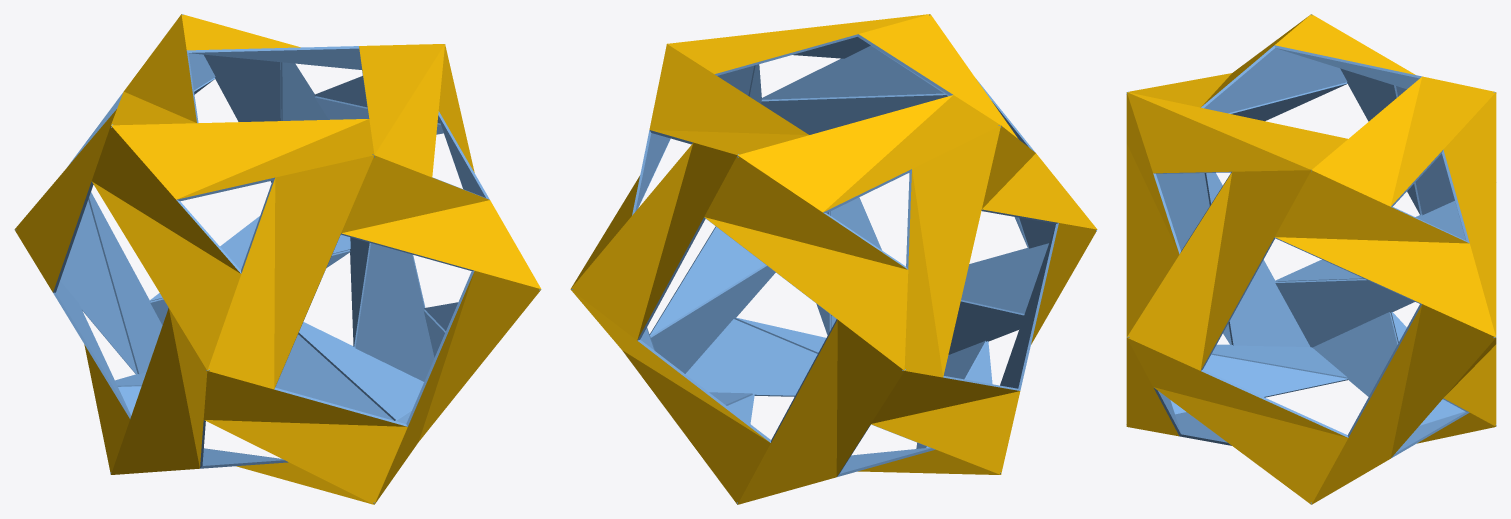
The model's file is Cuboctahedron.glb.
3 renders of one model, left to right at view 1: azimuth 30°, elevation 25°; view 2: azimuth 150°, elevation 25°; view 3: azimuth 270°, elevation 25°, orthographic. The views are drawn at different scales.
Parts seen in each view (by area): view 1: root; view 2: root; view 3: root.
Boxes of the visible parts, x1,y1,x2,y2 form: root: (14, 14, 541, 504); root: (570, 14, 1097, 504); root: (1126, 14, 1496, 504).
Size of the model in its own units: 7.22 by 7.22 by 7.22.
